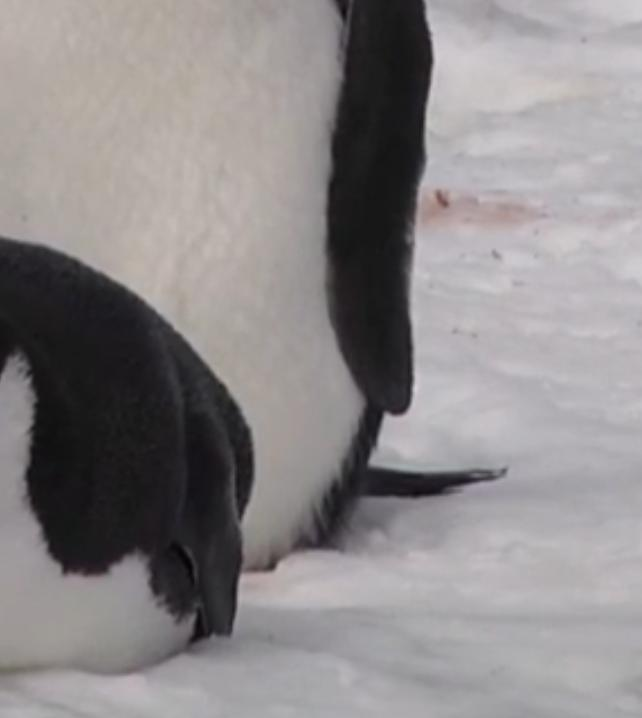Chinstrap Penguin: (0, 246, 306, 663), (0, 0, 438, 230)
